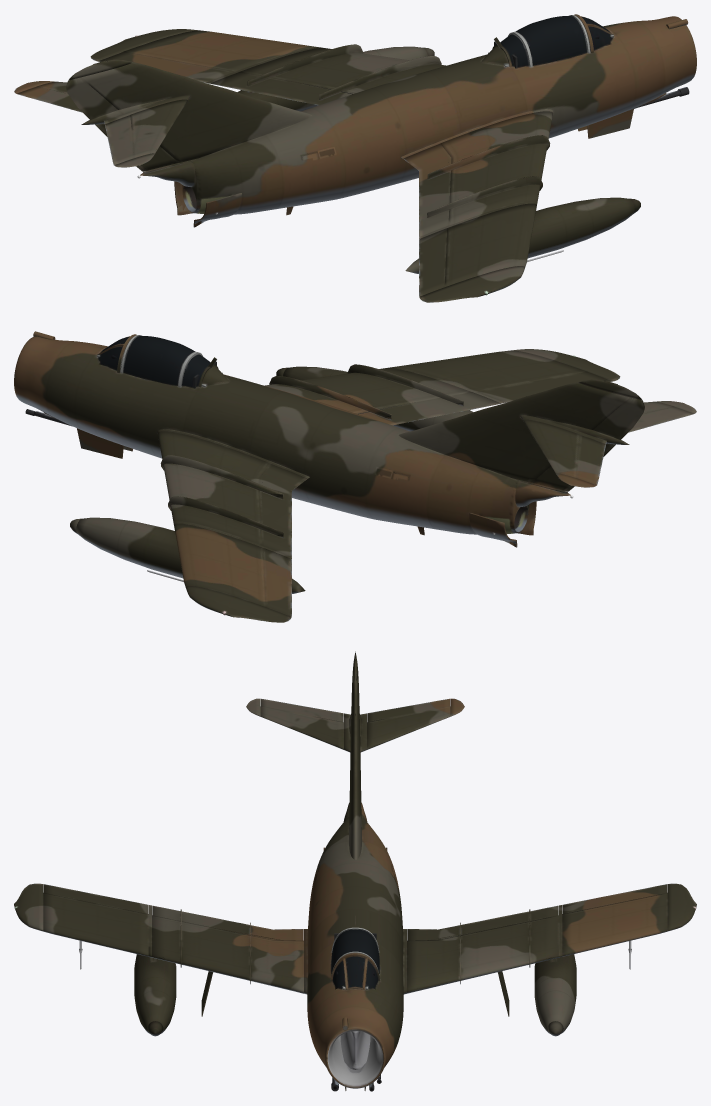
The model's file is fh_hangar_fighter_t1.glb.
3 views of the same model, one above another, from view 1: azimuth 30°, elevation 25°; view 2: azimuth 150°, elevation 25°; view 3: azimuth 270°, elevation 25° (orthographic). The views are drawn at different scales.
Parts seen in each view (by area): view 1: fh_hangar_fighter_t1, flap_r, flap_l, slat_r; view 2: fh_hangar_fighter_t1, flap_l, flap_r, slat_l; view 3: fh_hangar_fighter_t1, flap_l, flap_r, slat_l, slat_r.
Part boxes in pixels (x1,y1,x2,y2): fh_hangar_fighter_t1: (14,14,696,302); flap_r: (412,152,449,220); flap_l: (241,78,352,105); slat_r: (513,212,535,242); fh_hangar_fighter_t1: (14,331,696,622); flap_l: (261,472,298,540); flap_r: (359,398,469,425); slat_l: (175,532,197,562); fh_hangar_fighter_t1: (14,651,696,1091); flap_l: (424,911,528,940); flap_r: (182,911,286,940); slat_l: (577,929,625,953); slat_r: (85,929,133,953).
Bounding box in the file's own units: 1 × 0.315 × 0.9864.
Materials: 3 (2 with a texture image).
